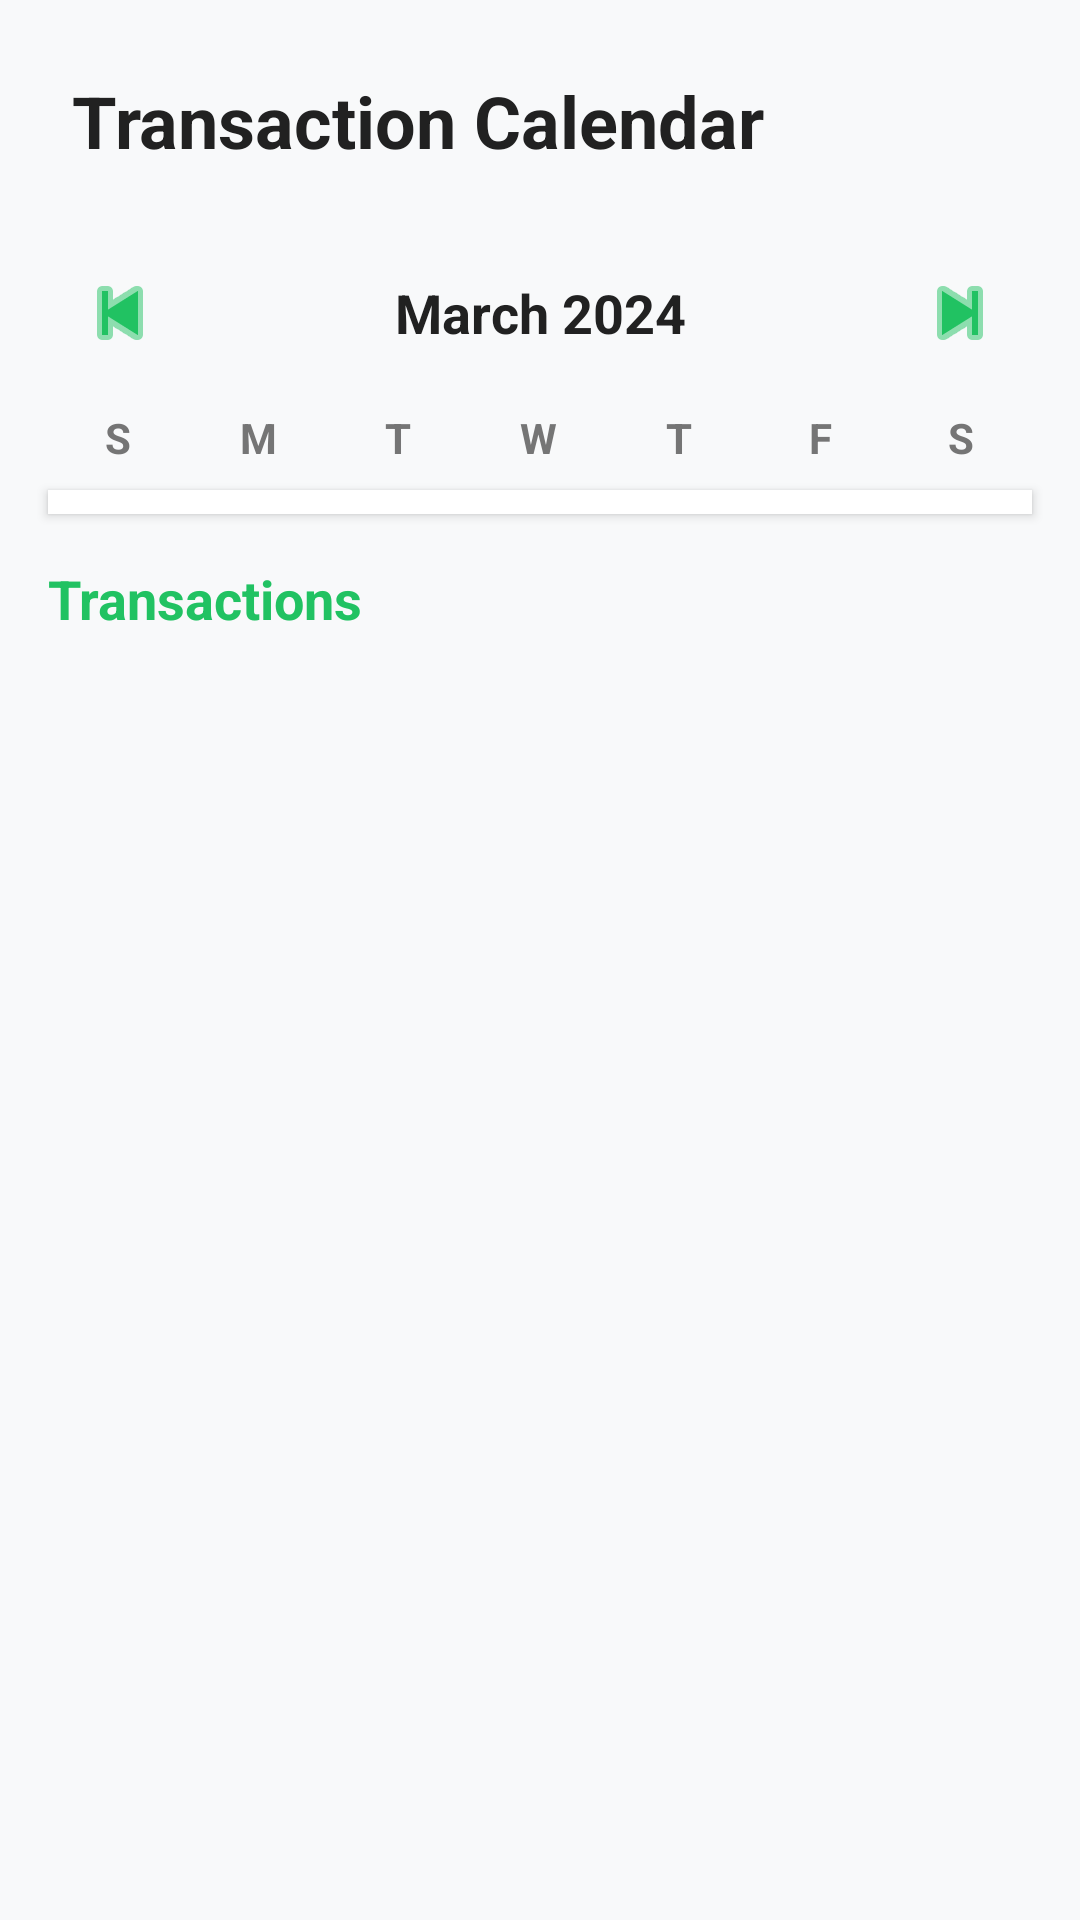

Named icons in this screenshot (1080w x 1920h) and their bounding boxes, (x1, y1, x2, y2):
next: (937, 286, 983, 340)
previous: (97, 286, 143, 340)
